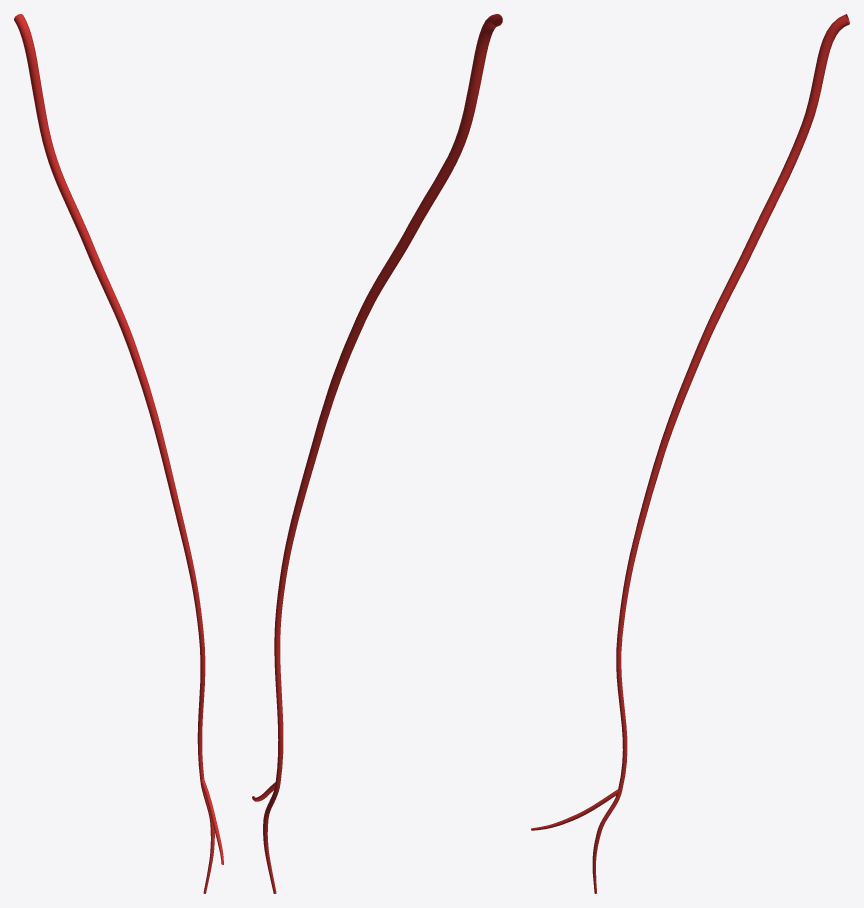
Rendered from circulatorio-lateral-thoracic-artery-l.glb.
3 views of the same model, side by side, from view 1: azimuth 30°, elevation 25°; view 2: azimuth 210°, elevation 25°; view 3: azimuth 270°, elevation 25° (orthographic). The views are drawn at different scales.
Visible parts, largest first — view 1: Lateral thoracic artery.l; view 2: Lateral thoracic artery.l; view 3: Lateral thoracic artery.l.
Part boxes in pixels (x1=…): Lateral thoracic artery.l: x1=14, y1=14, x2=223, y2=893; Lateral thoracic artery.l: x1=252, y1=14, x2=502, y2=893; Lateral thoracic artery.l: x1=531, y1=14, x2=849, y2=893.
Bounding box in the file's own units: 0.0224 × 0.2112 × 0.0722.
